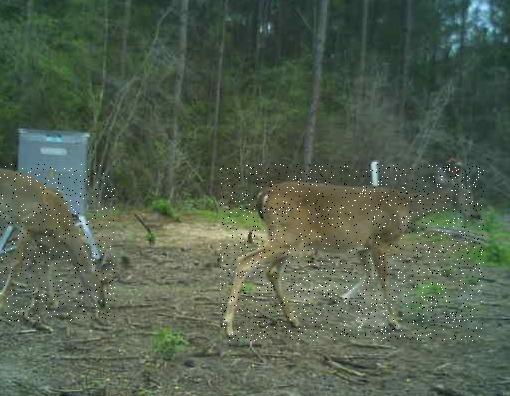Deer: (221, 165, 485, 342), (0, 164, 115, 321)
